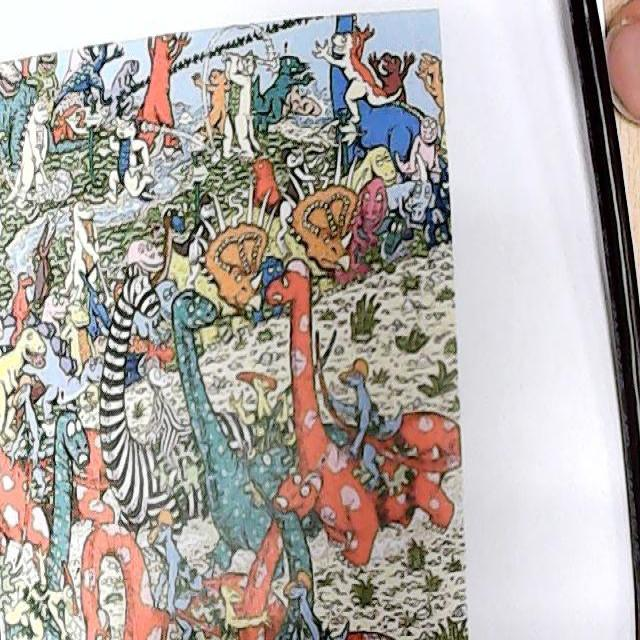waldo: (148, 219, 164, 245)
